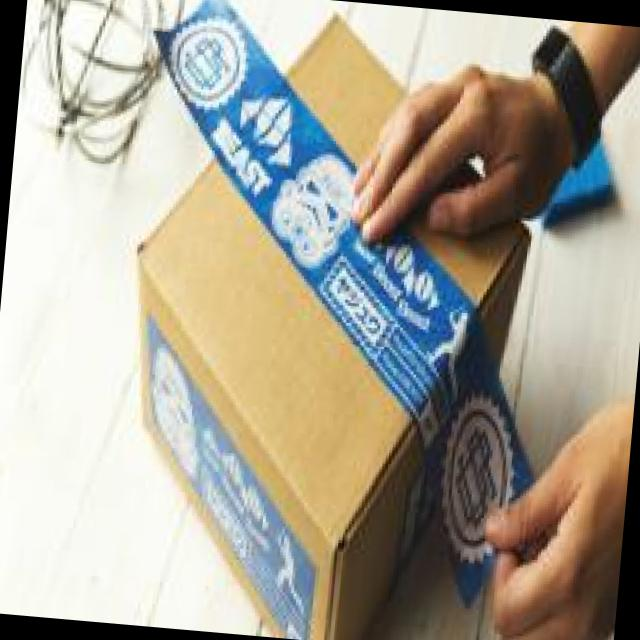box: (136, 12, 534, 640)
